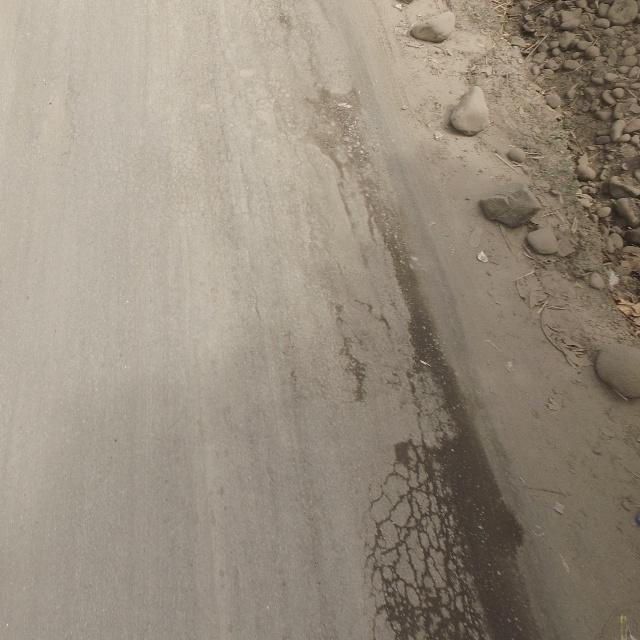GRIETA: (322, 150, 354, 230), (341, 338, 365, 400), (404, 370, 424, 443)
PIEL DE COCODRILO: (205, 0, 334, 259), (359, 442, 502, 639)
